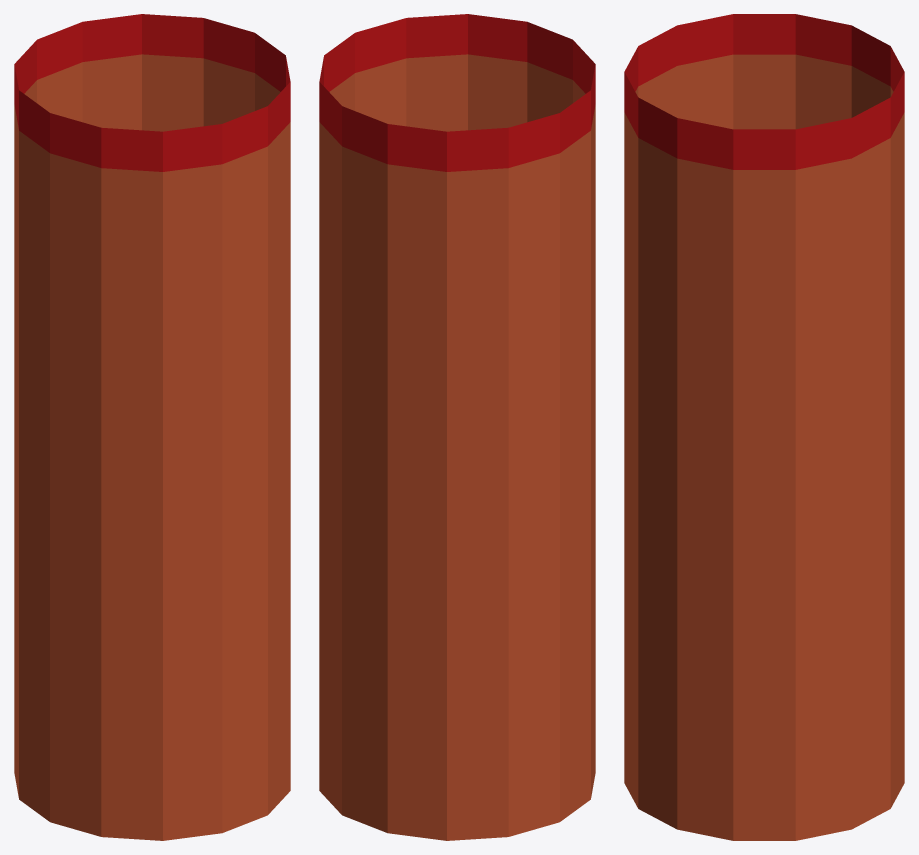
3 renders of one model, left to right at view 1: azimuth 30°, elevation 25°; view 2: azimuth 150°, elevation 25°; view 3: azimuth 270°, elevation 25°, orthographic.
Visible parts, largest first — view 1: Cylinder, Cylinder.001; view 2: Cylinder, Cylinder.001; view 3: Cylinder, Cylinder.001.
Boxes of the visible parts, x1,y1,x2,y2 form: Cylinder: [14, 54, 290, 840]; Cylinder.001: [14, 14, 290, 171]; Cylinder: [319, 54, 595, 840]; Cylinder.001: [319, 14, 595, 171]; Cylinder: [624, 54, 904, 840]; Cylinder.001: [624, 14, 904, 169].
Size of the model in its own units: 195 by 561 by 200.
